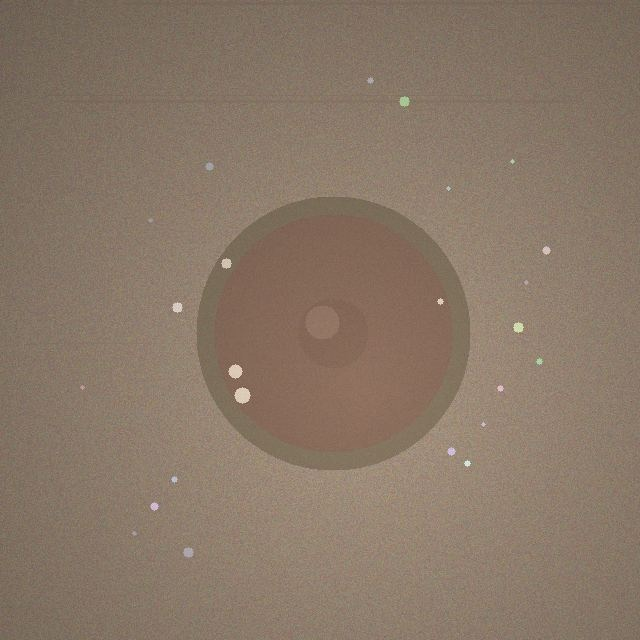overburn: (196, 196, 470, 470)
